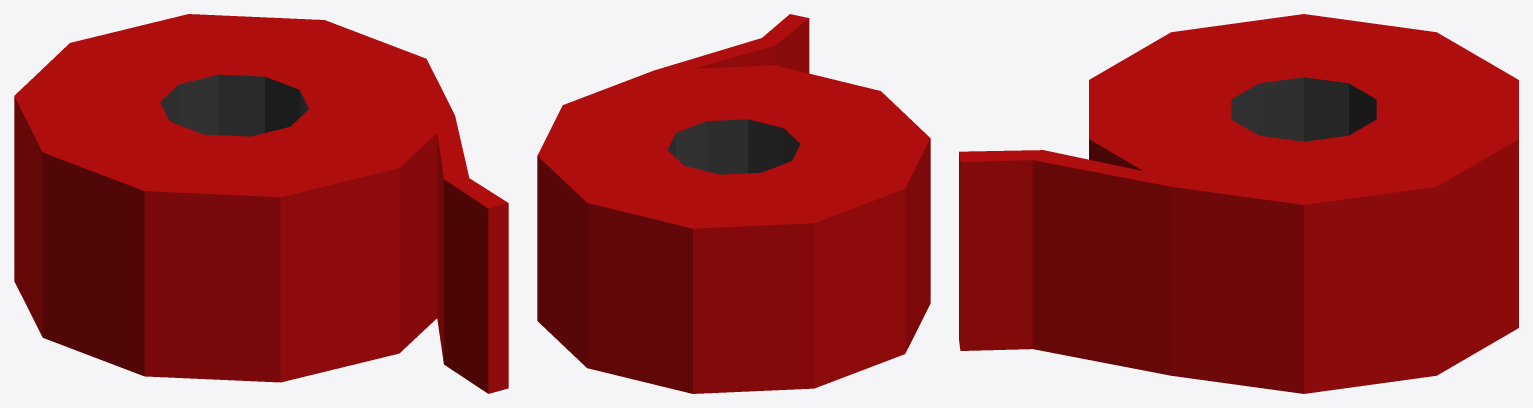
Rendered from model_tape_red.fbx.
3 views of the same model, side by side, from view 1: azimuth 30°, elevation 25°; view 2: azimuth 150°, elevation 25°; view 3: azimuth 270°, elevation 25° (orthographic). The views are drawn at different scales.
Visible parts, largest first — view 1: model_tape_red; view 2: model_tape_red; view 3: model_tape_red.
Part boxes in pixels (box(x1,y1,x2,y2)): model_tape_red: box(14, 14, 508, 393); model_tape_red: box(537, 14, 930, 393); model_tape_red: box(959, 14, 1518, 393).
Bounding box in the file's own units: 10.81 × 4.99 × 13.39.
1 material, 1 textured.
